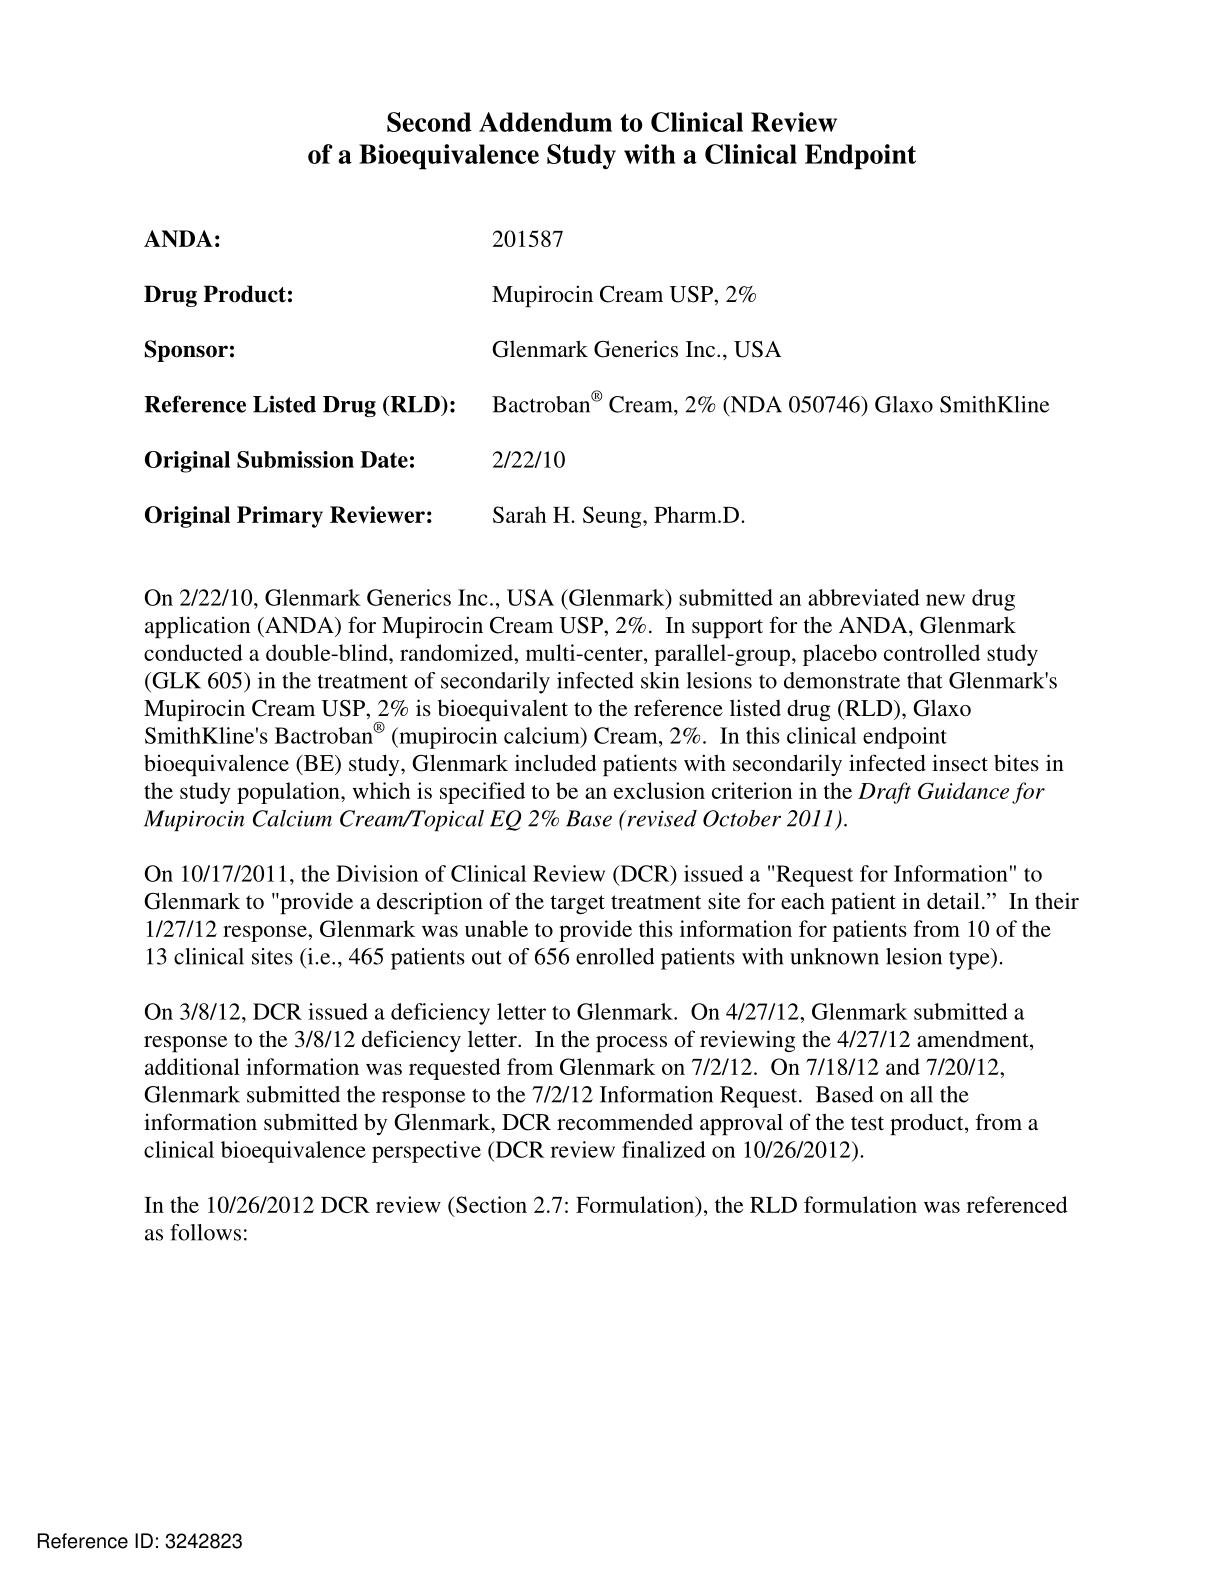nolines: (141, 222, 1052, 528)
